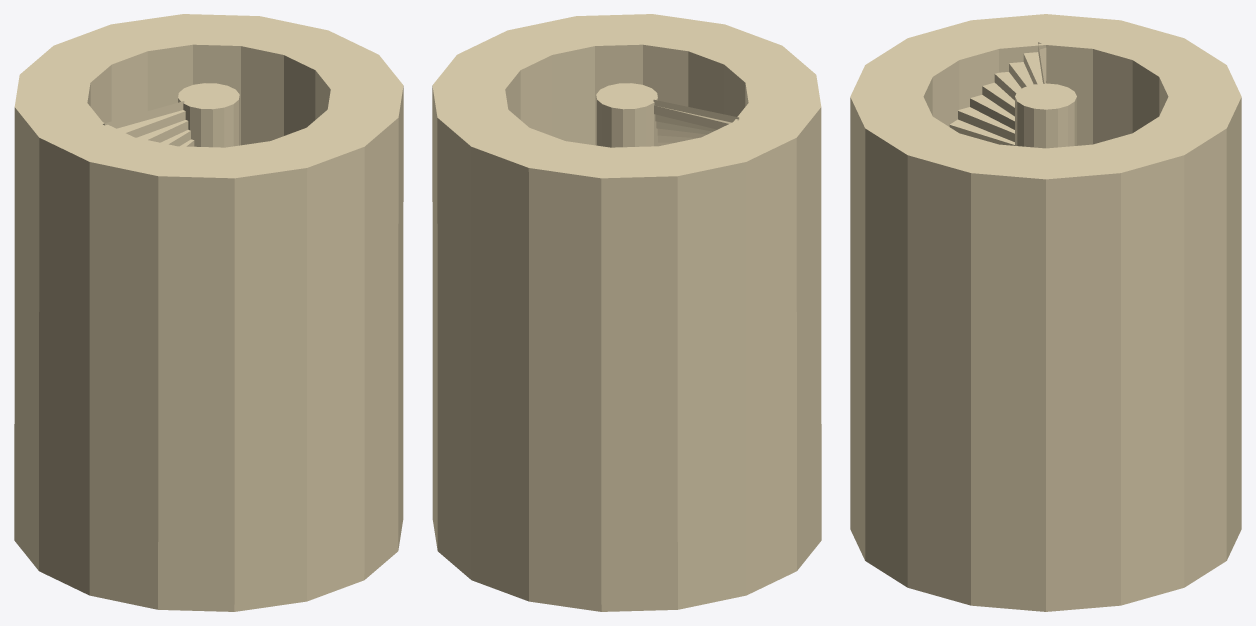
Rendered from twoer.glb.
3 renders of one model, left to right at view 1: azimuth 30°, elevation 25°; view 2: azimuth 150°, elevation 25°; view 3: azimuth 270°, elevation 25°, orthographic.
Visible parts, largest first — view 1: Cylinder.003; view 2: Cylinder.003; view 3: Cylinder.003.
Boxes of the visible parts, bbox=[...] form: Cylinder.003: bbox=[14, 14, 403, 611]; Cylinder.003: bbox=[432, 14, 821, 611]; Cylinder.003: bbox=[850, 14, 1241, 611].
Bounding box in the file's own units: 16.41 × 20.31 × 16.4.
